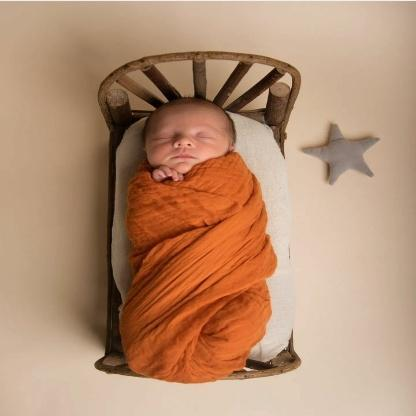baby: (120, 97, 276, 383)
